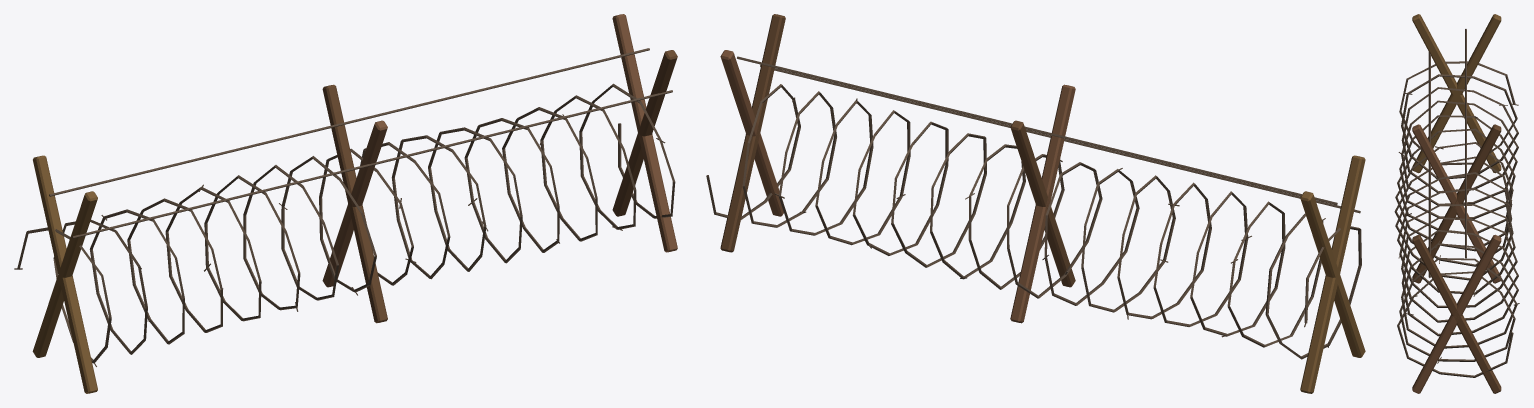
Rendered from barbed_wire.glb.
The picture shows the model from 3 angles, left to right: view 1: azimuth 30°, elevation 25°; view 2: azimuth 150°, elevation 25°; view 3: azimuth 270°, elevation 25°; orthographic projection. The views are drawn at different scales.
Visible parts, largest first — view 1: barbed_wire; view 2: barbed_wire; view 3: barbed_wire.
Boxes of the visible parts, <box> form: barbed_wire: <box>14,14,677,393</box>; barbed_wire: <box>706,14,1365,393</box>; barbed_wire: <box>1394,14,1519,393</box>.
Bounding box in the file's own units: 3.02 × 0.9603 × 0.6942.
